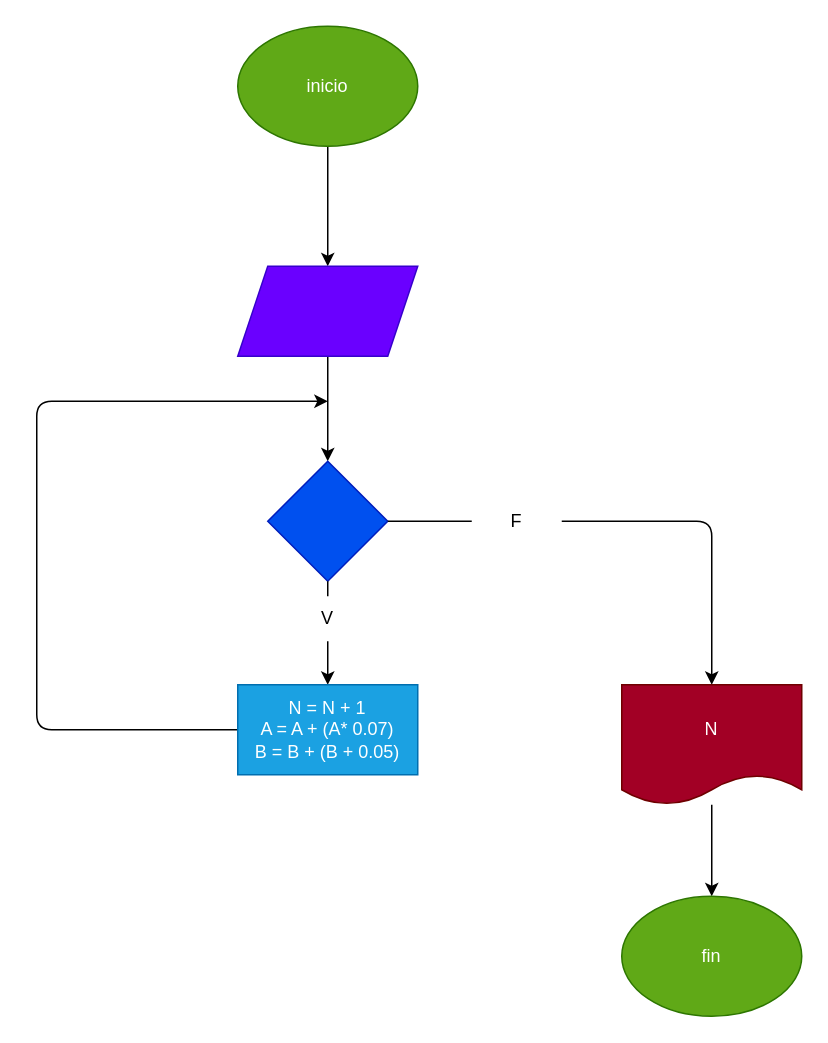
This 828x1043 diagram has some shape labels left out. The centre of each missing label's shape, as x and y in pixels:
"A < B" belongs at [327,520].
"N = 1980 A = 3.5 B = 5" belongs at [327,310].
